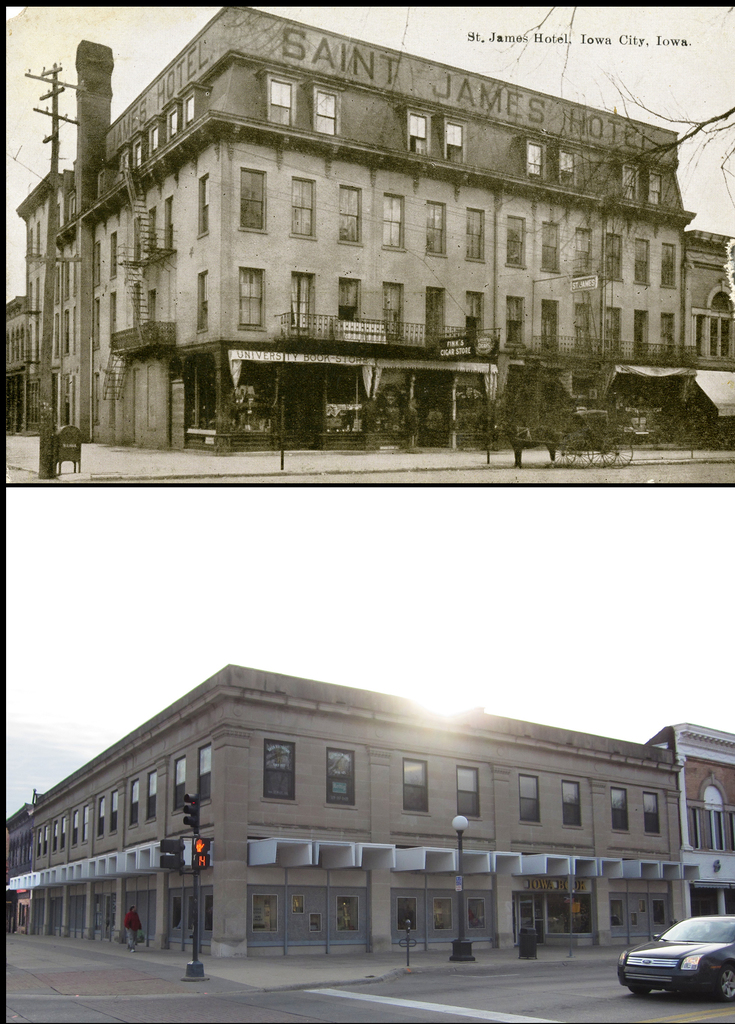Car: (615, 910, 734, 1008)
